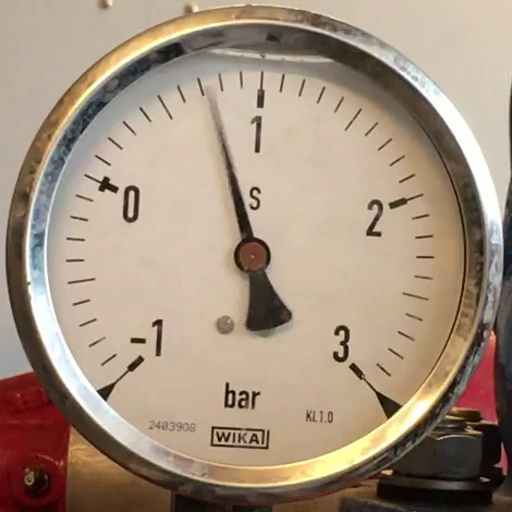base: (233, 237, 271, 274)
circle_plate: (48, 52, 466, 466)
maximum: (348, 362, 366, 380)
minimum: (126, 356, 144, 372)
number: (127, 318, 164, 358), (120, 182, 142, 224), (246, 112, 266, 157), (330, 322, 351, 364), (364, 196, 384, 240)
tip: (202, 86, 210, 92)
